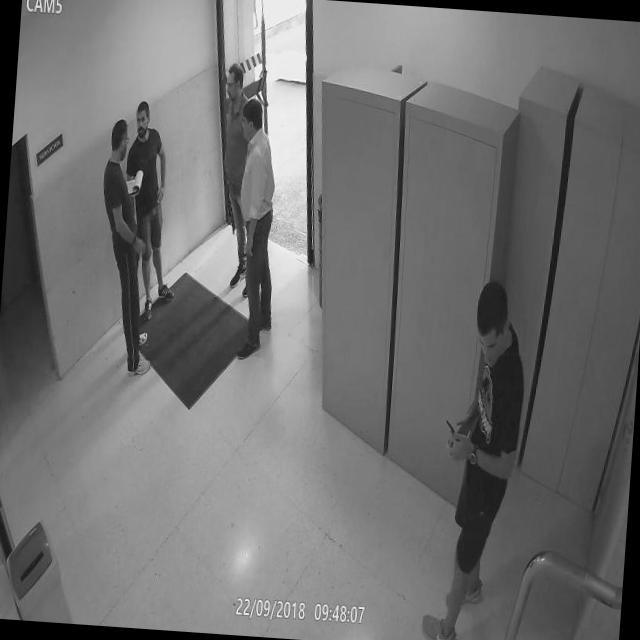person: (430, 274, 529, 640), (83, 112, 167, 382), (218, 90, 297, 359), (112, 92, 190, 318), (202, 54, 272, 304)
